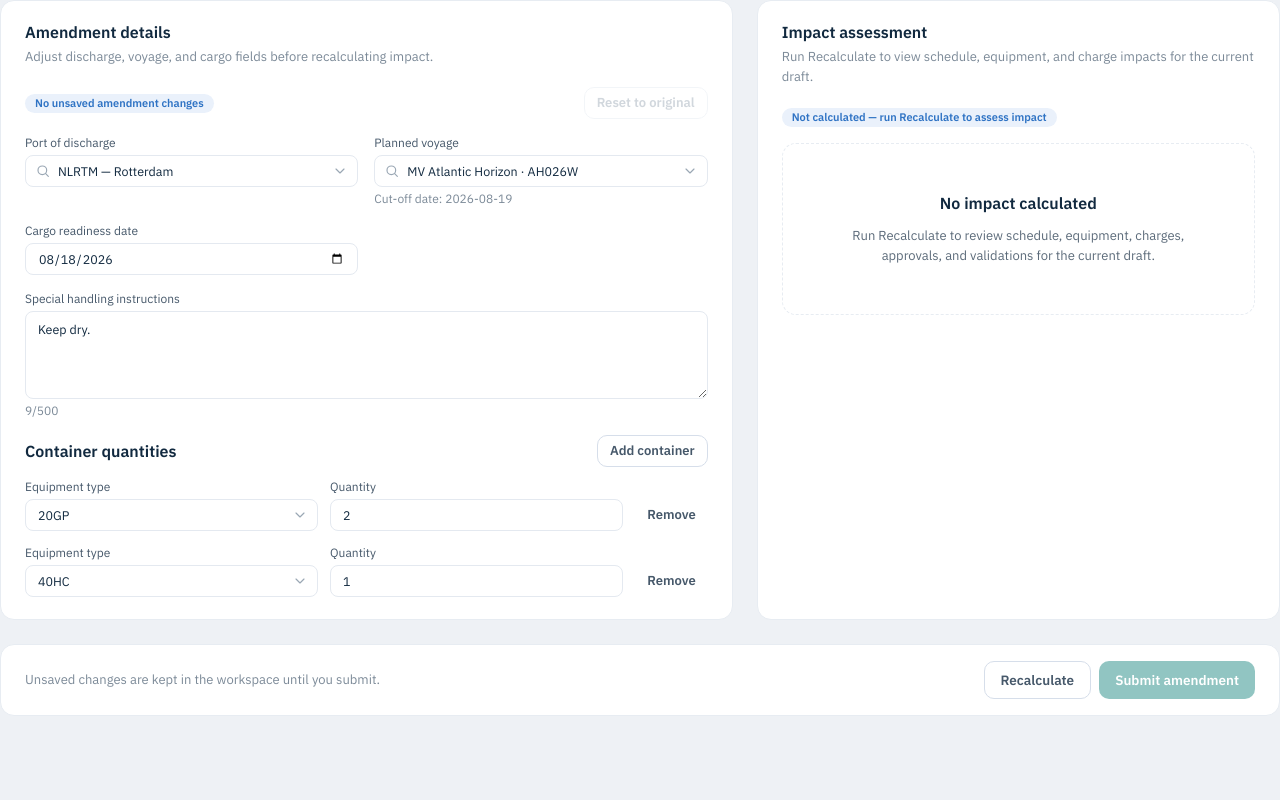
BookingAmendmentWorkspace › keeps submit disabled when the assessment has a blocking validation
Click the button "Recalculate" at (1037, 680), box 984,661 -> 1091,699
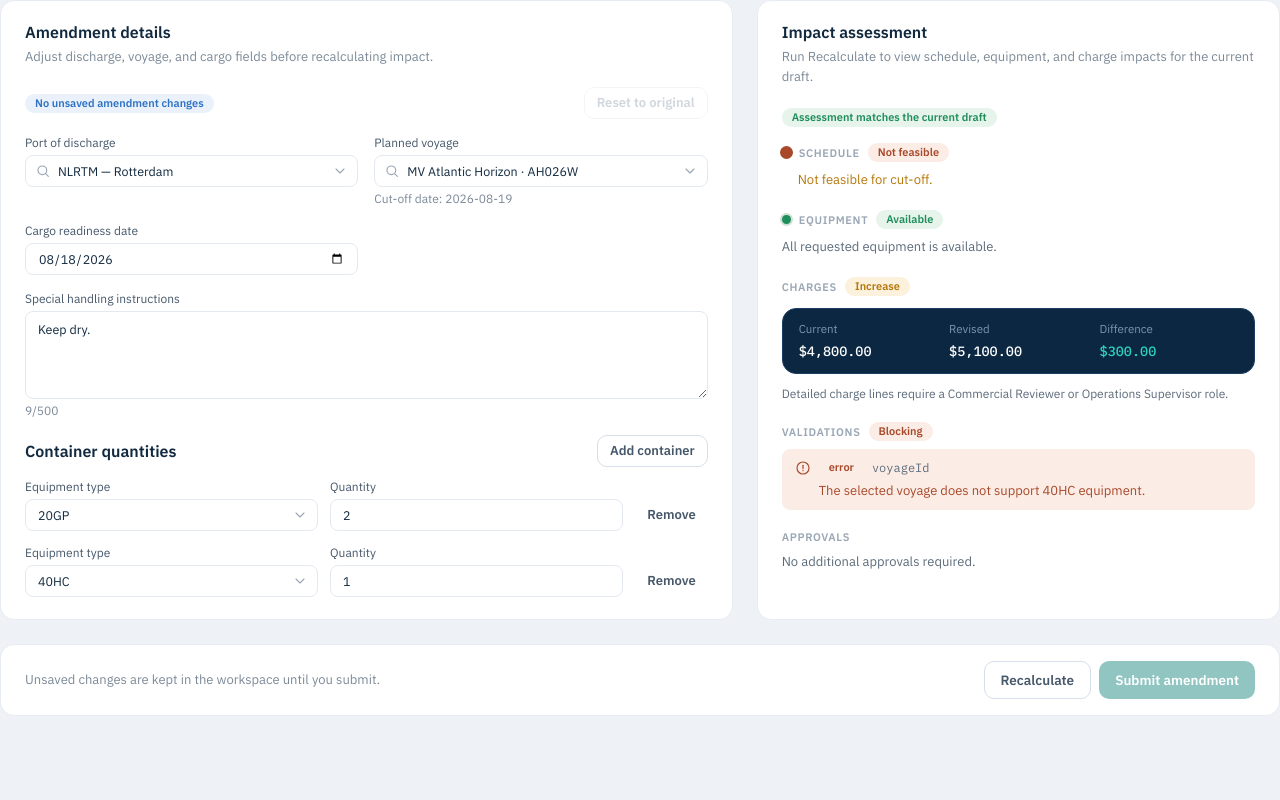
Check: the button "Submit amendment" is disabled, box 1099,661 -> 1255,699
Check: the text "The selected voyage does not support 40HC equipment." is shown, box 819,482 -> 1145,499
Check: the text "Blocking" is shown, box 868,422 -> 932,441
